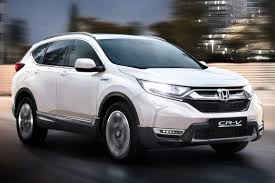Honda: (12, 32, 266, 161)
